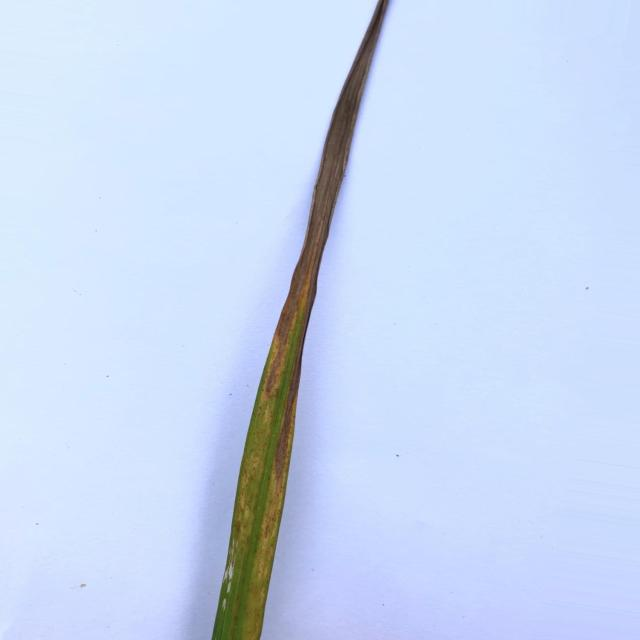Rice Tungro: (212, 0, 388, 639)
